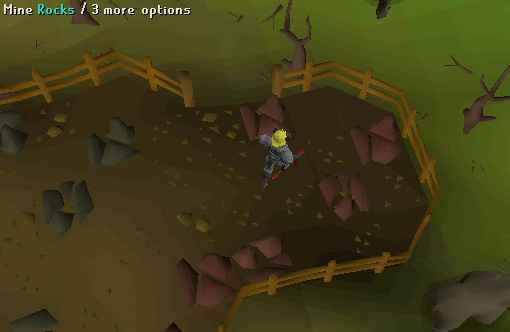coal: (35, 176, 97, 238), (81, 111, 143, 173)
iron: (312, 163, 381, 225), (343, 106, 412, 168), (234, 88, 303, 150), (168, 250, 237, 312)
